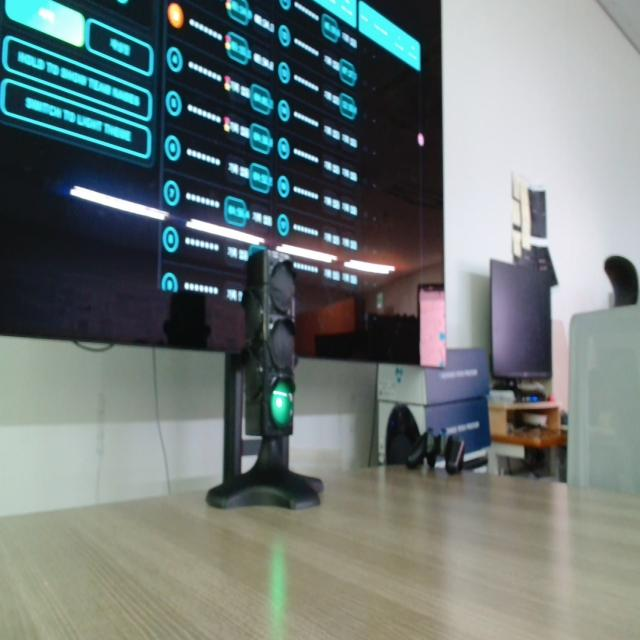green_light: (271, 382, 293, 428)
